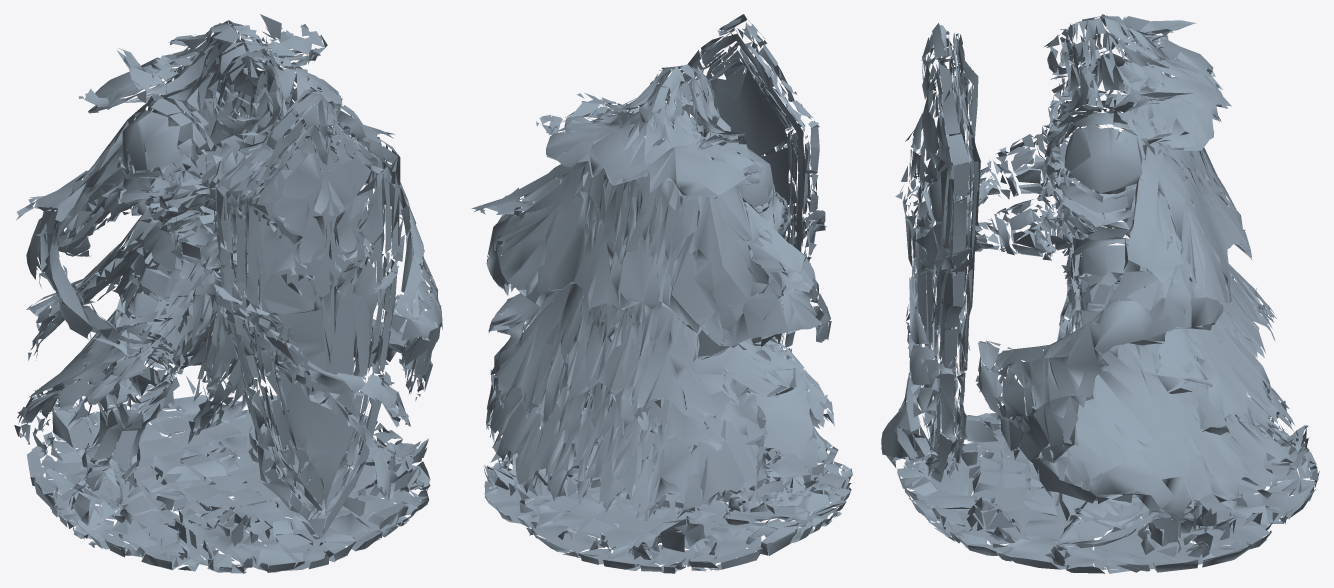
The model's file is veil-vanguard.glb.
3 views of the same model, side by side, from view 1: azimuth 30°, elevation 25°; view 2: azimuth 150°, elevation 25°; view 3: azimuth 270°, elevation 25° (orthographic). The views are drawn at different scales.
Visible parts, largest first — view 1: model; view 2: model; view 3: model.
Boxes of the visible parts, <box> form: model: <box>14,14,442,573</box>; model: <box>471,14,852,573</box>; model: <box>881,14,1319,573</box>.
Bounding box in the file's own units: 1.63 × 1.91 × 1.58.
